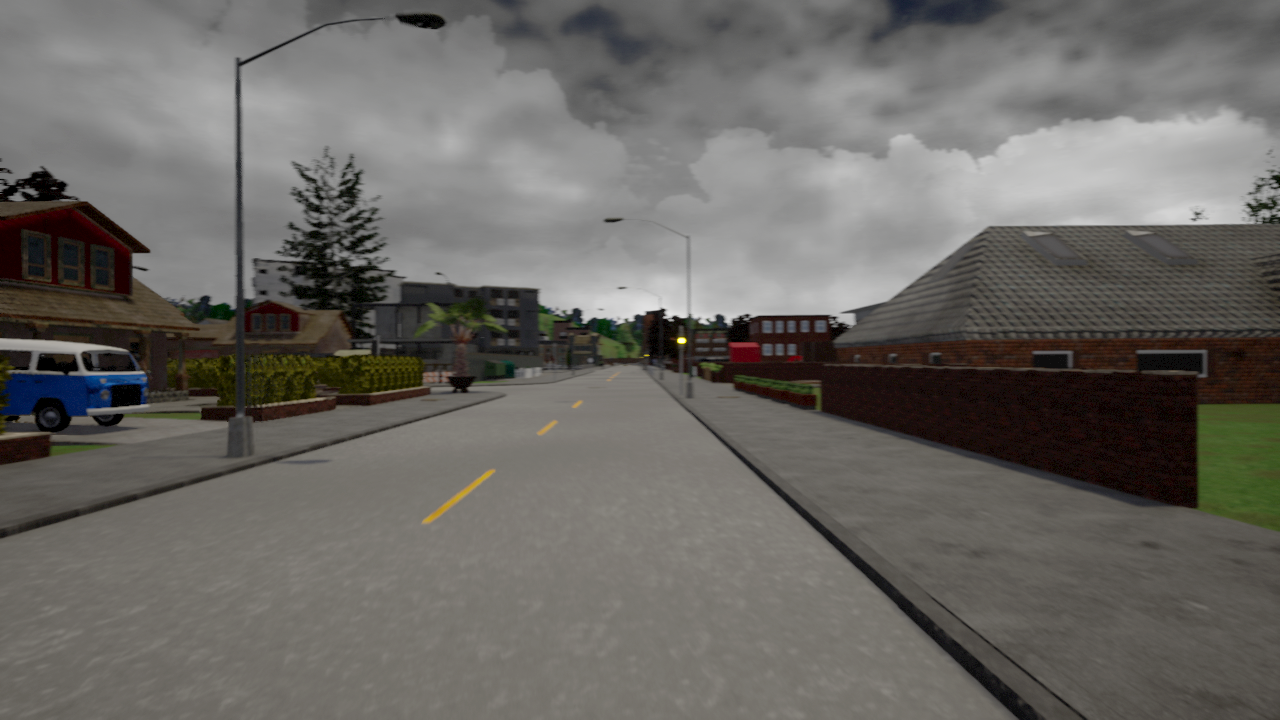yellow: (676, 329, 687, 351)
